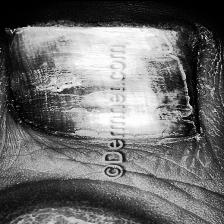Toxin: (134, 24, 197, 130), (8, 26, 102, 92)
